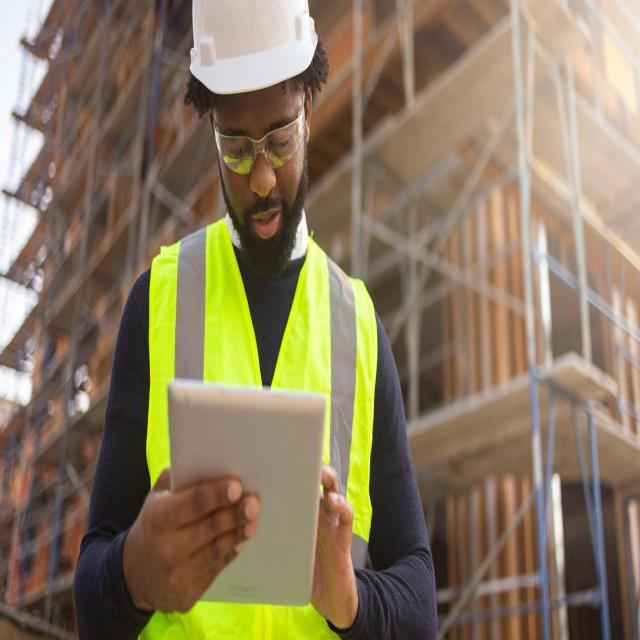goggles: (203, 105, 315, 177)
helmet: (175, 0, 322, 104)
vest: (142, 230, 377, 604)
